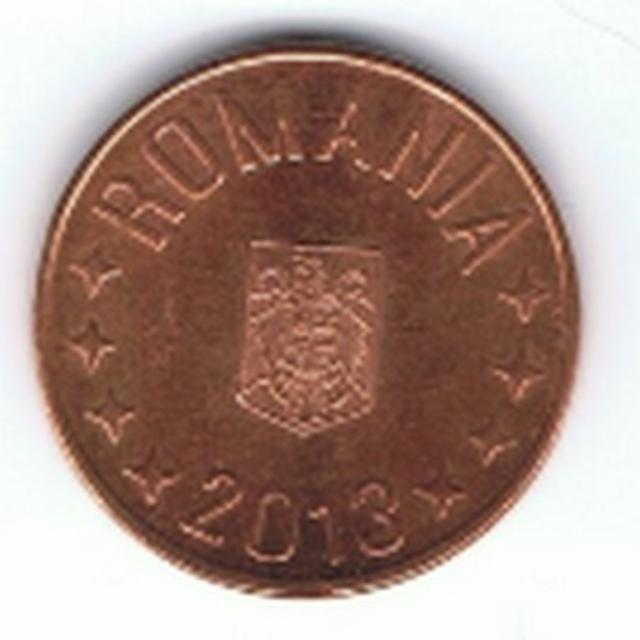Coin: (32, 38, 582, 599)
